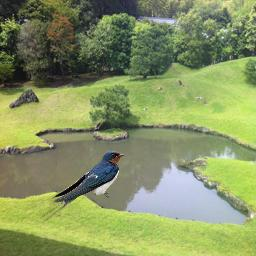Swallow: (40, 151, 125, 222)
